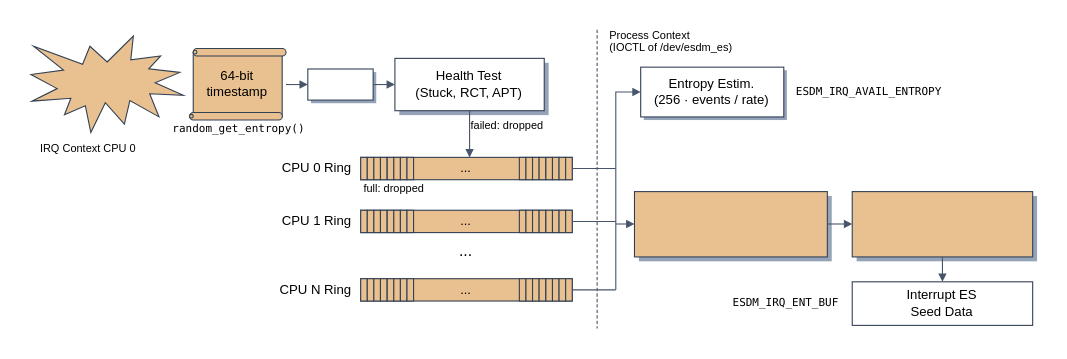
Some shapes in this 1067 by 359 pixel diagram are drawn without their labels. Here are the shapes that lost their labels. From the top down, the centre of each, then its label:
point 106,83: IRQ
point 339,84: / GCD
point 730,223: Kernel DRBG (XDRBG-256 or HMAC_DRBG) DRBG.Seed(events)
point 941,223: DRBG.Generate additional input "ESDM_IRQ_DRBG"
